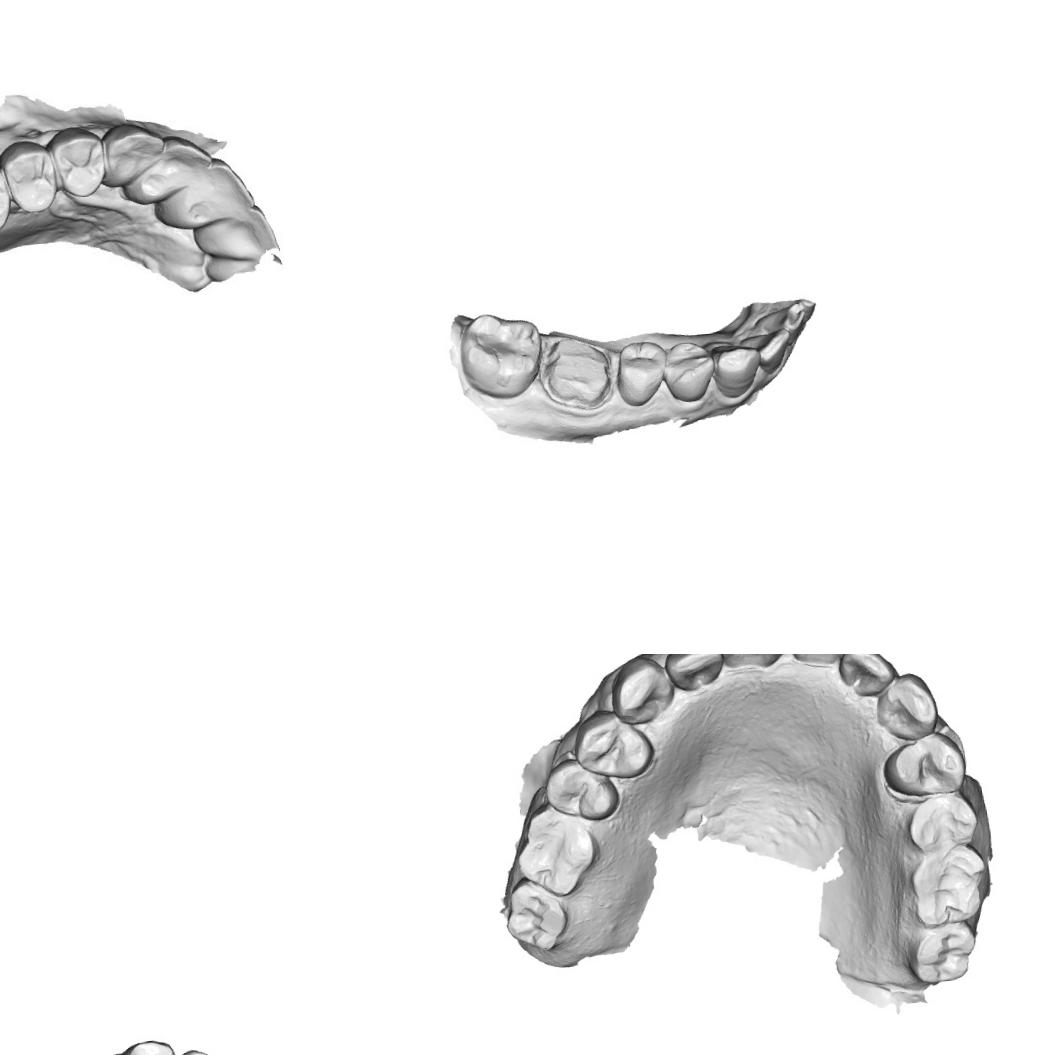canine: (96, 120, 166, 190), (605, 654, 672, 726), (876, 670, 939, 740), (708, 339, 764, 400), (111, 1037, 179, 1055)
crown: (536, 330, 617, 412)
incisor: (117, 131, 218, 212), (152, 160, 258, 233), (188, 209, 276, 270), (748, 296, 819, 340), (835, 654, 897, 703), (736, 325, 794, 377), (663, 654, 727, 691), (714, 654, 787, 681), (784, 654, 854, 668)
molar: (455, 306, 548, 404), (514, 804, 598, 894), (904, 844, 988, 928), (502, 883, 569, 949), (908, 921, 976, 984), (0, 155, 15, 240)
premolar: (879, 729, 967, 802), (574, 712, 660, 784), (902, 791, 985, 854), (50, 126, 108, 200), (612, 337, 672, 408), (548, 760, 616, 820), (2, 140, 56, 212), (660, 339, 719, 404)
